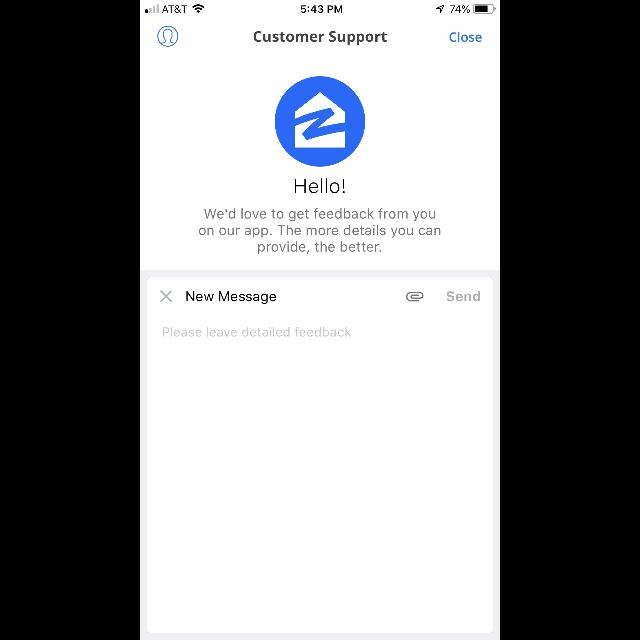icon: (158, 27, 178, 48), (160, 290, 172, 302)
image: (274, 76, 366, 168), (406, 292, 424, 302)
text: (200, 208, 440, 254), (163, 327, 351, 337), (254, 32, 386, 46), (187, 292, 276, 304), (295, 178, 345, 194), (448, 290, 480, 302), (450, 32, 482, 42)
uppertaskbar: (140, 0, 500, 14)
